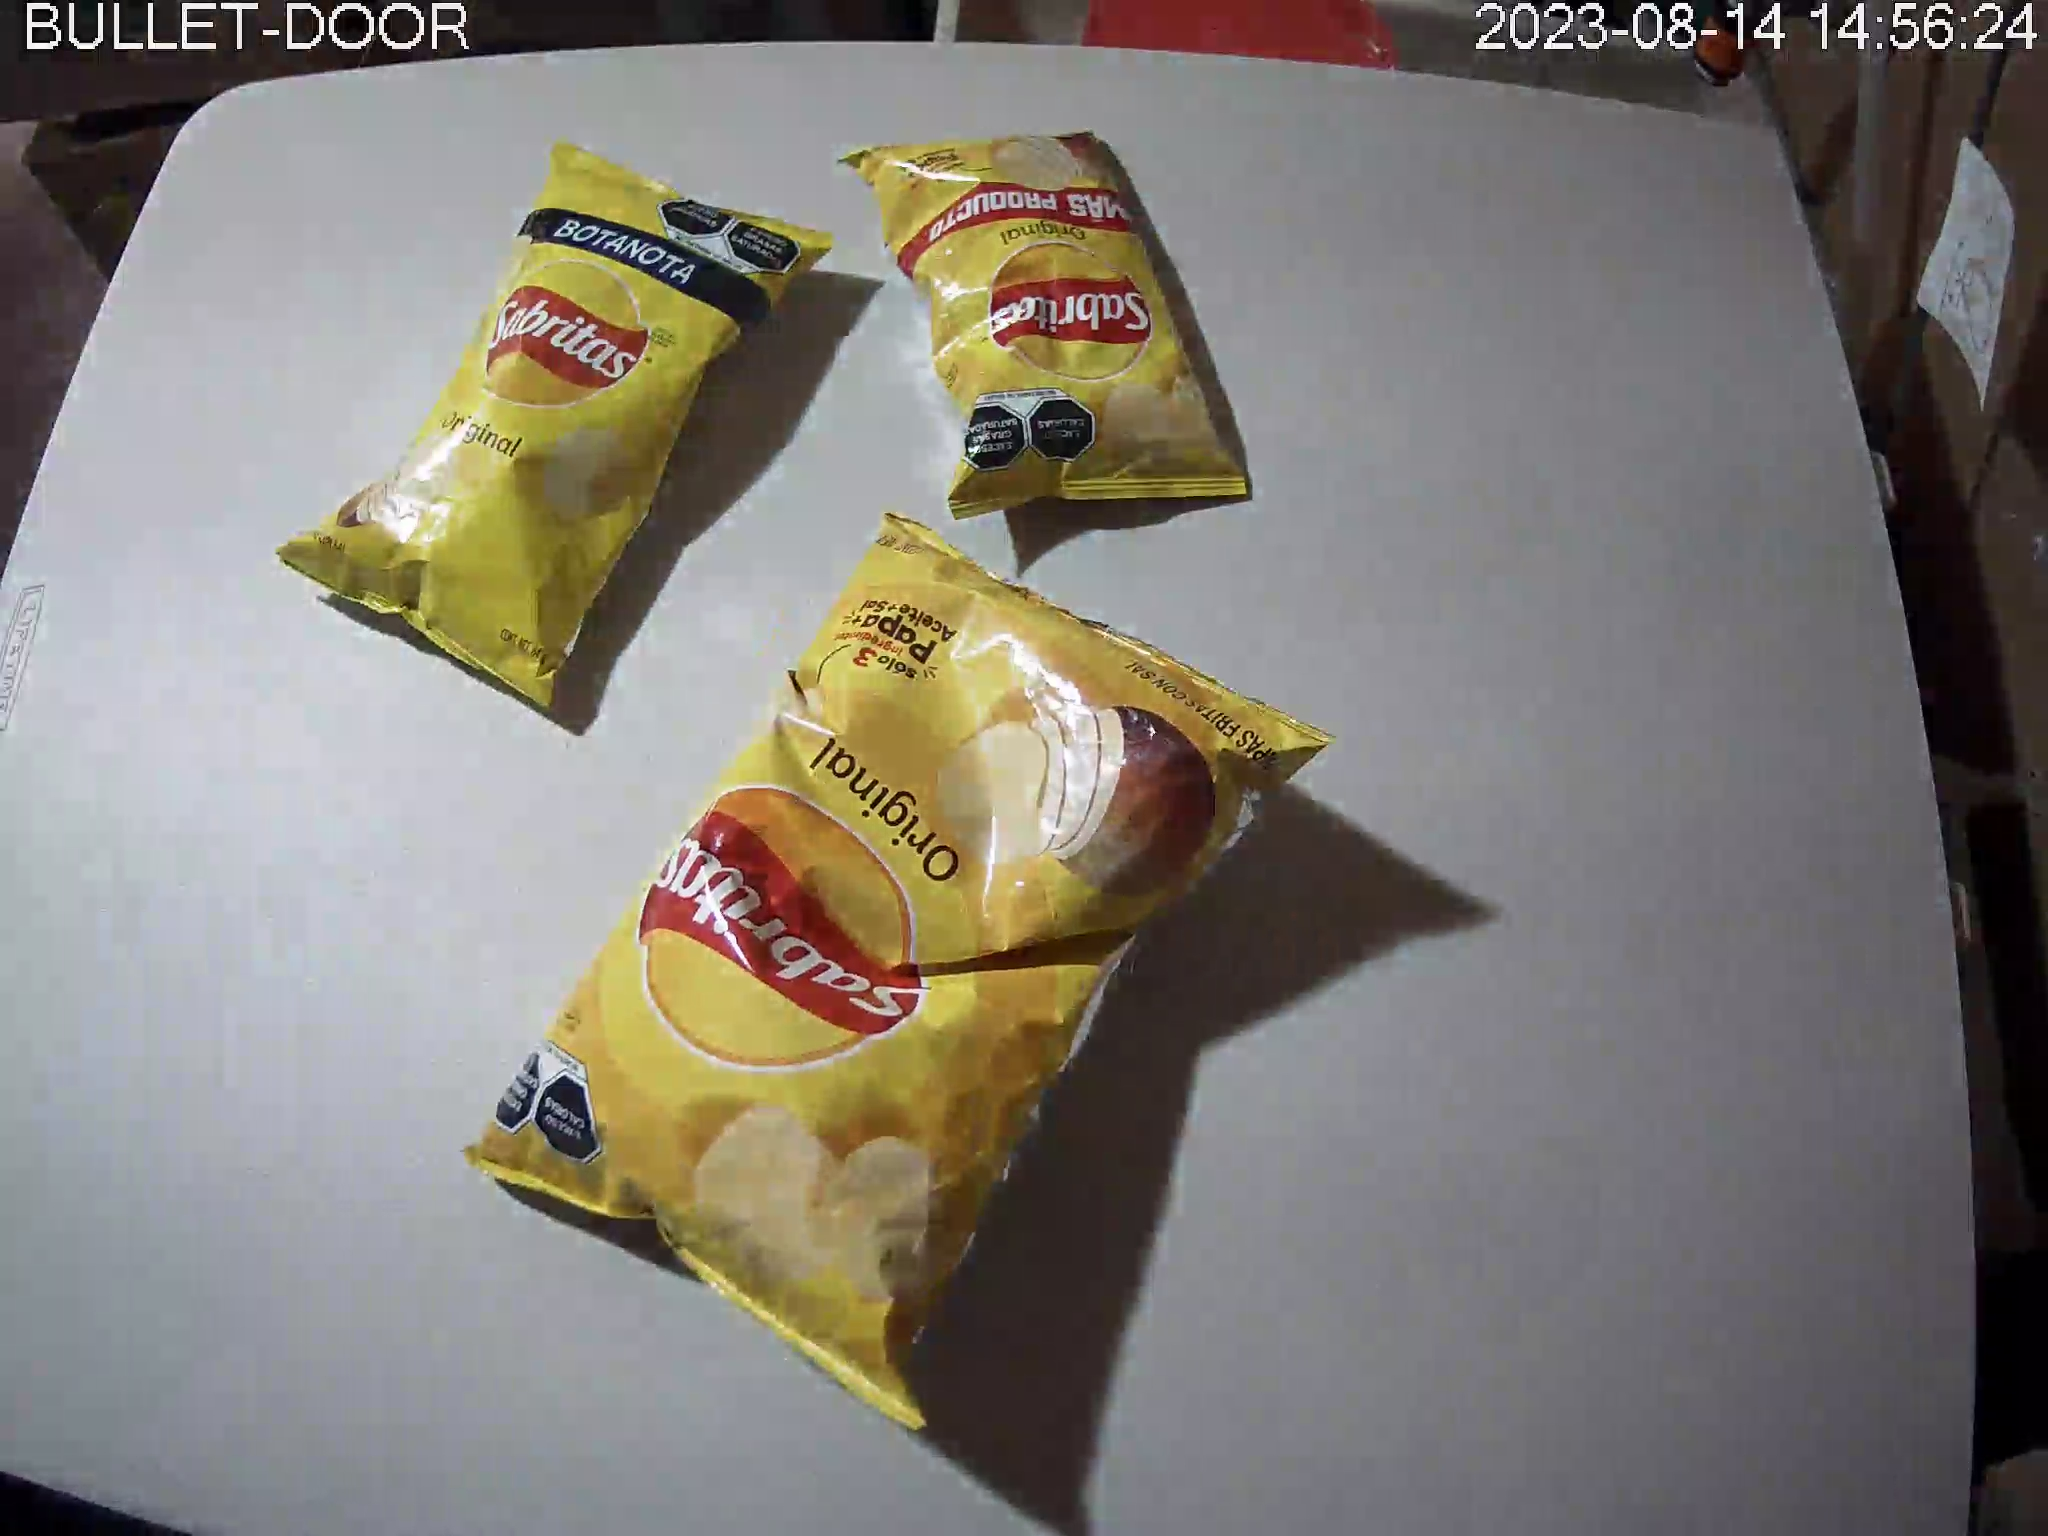Sabritas_160_F: (468, 510, 1335, 1433)
Sabritas_45_F: (837, 132, 1253, 523)
Sabritas_64_F: (276, 139, 832, 720)
